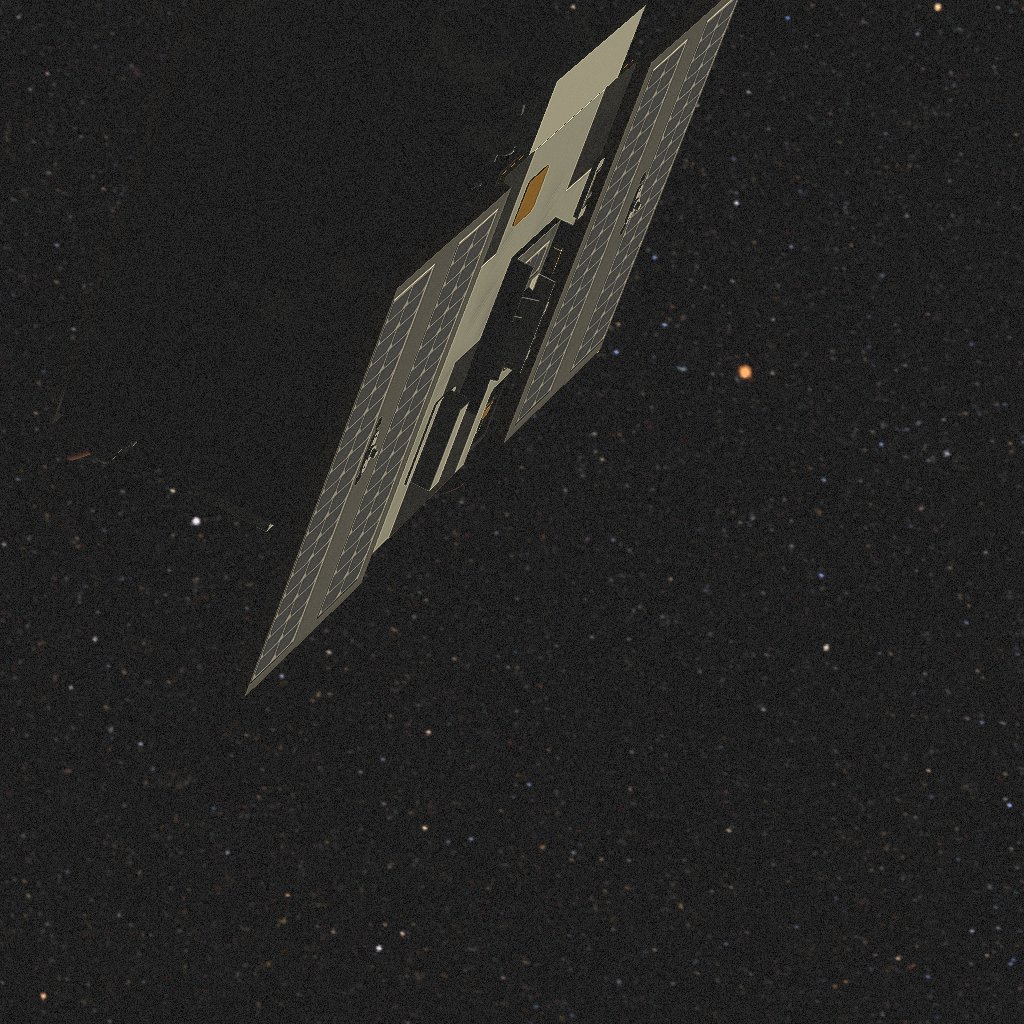proba_2: (77, 4, 740, 700)
